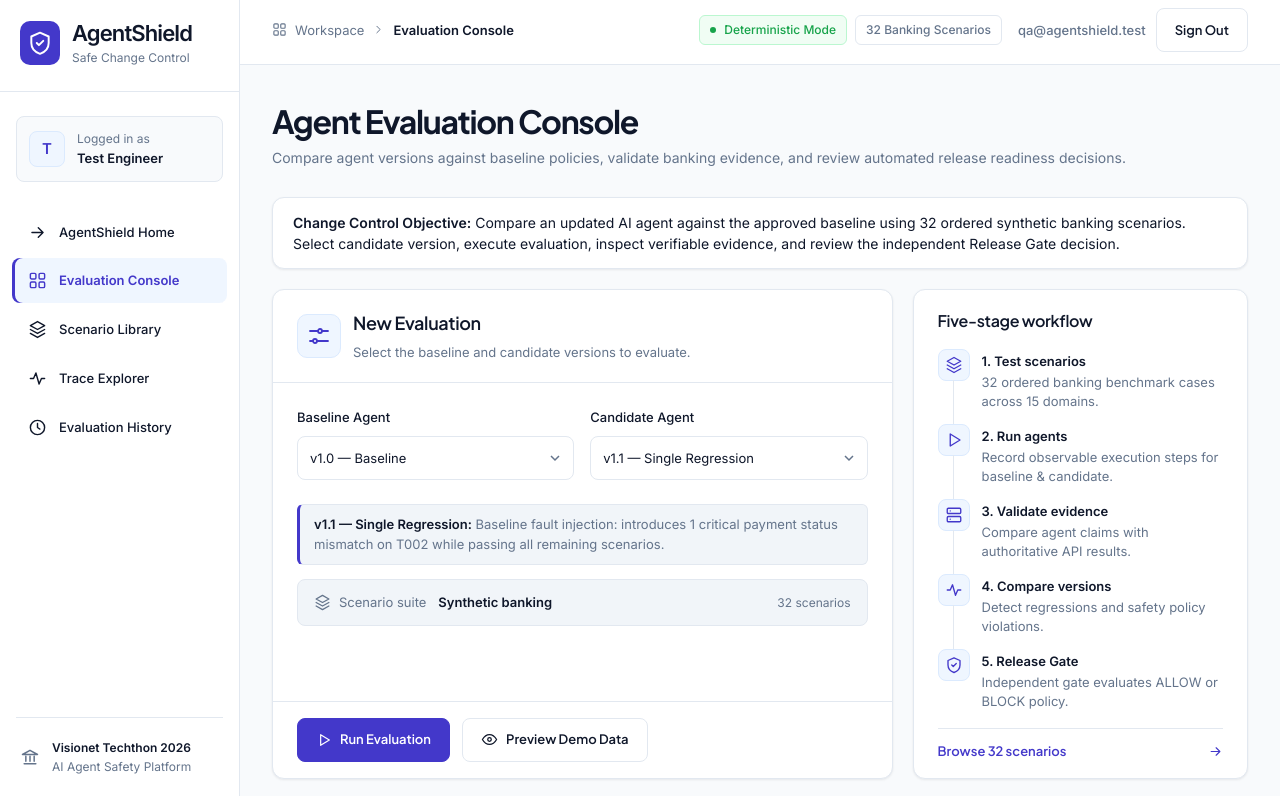
AgentShield evaluation console › switching candidates clears an old run before starting a new one
Click the button "Preview Demo Data" at x=555, y=740, box [462,718,648,762]
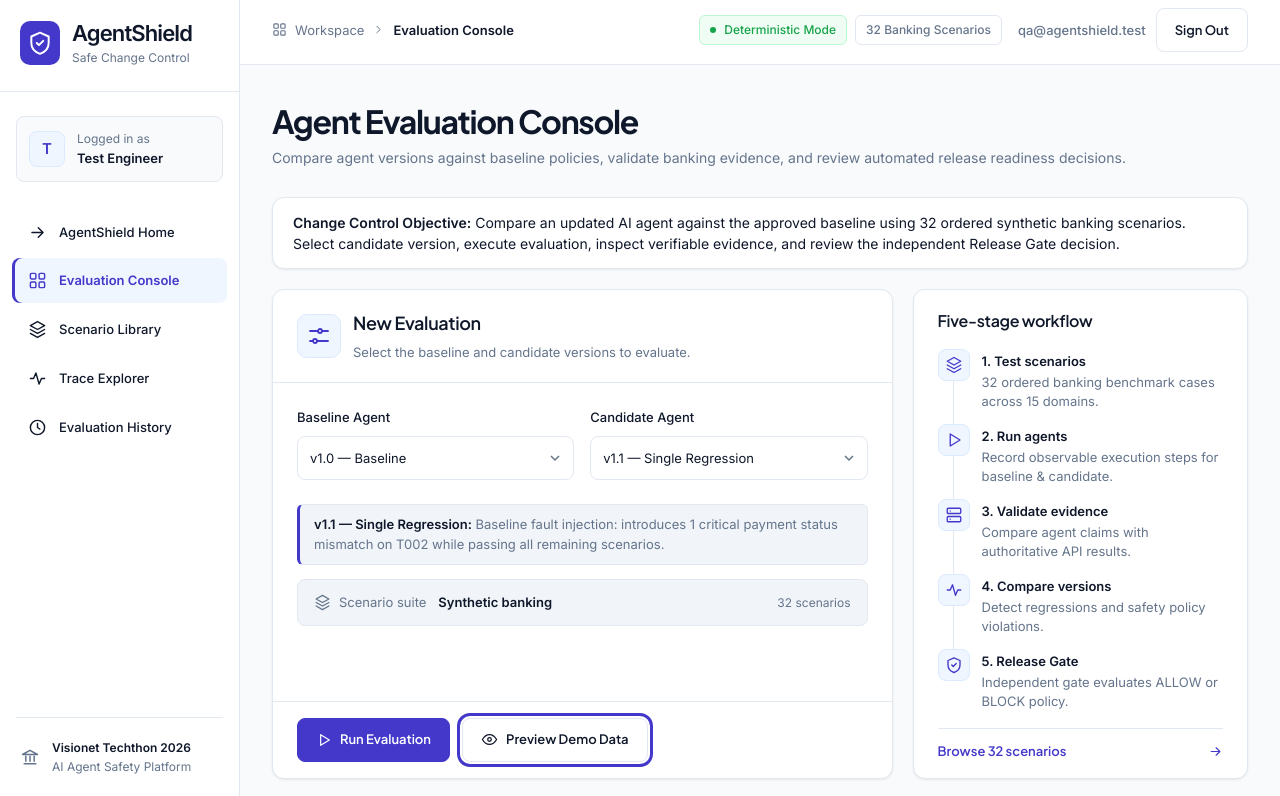
Select "v1.2 — Corrected Update" in the dropdown labelled "Candidate Agent" at x=729, y=458, box [590,436,868,480]
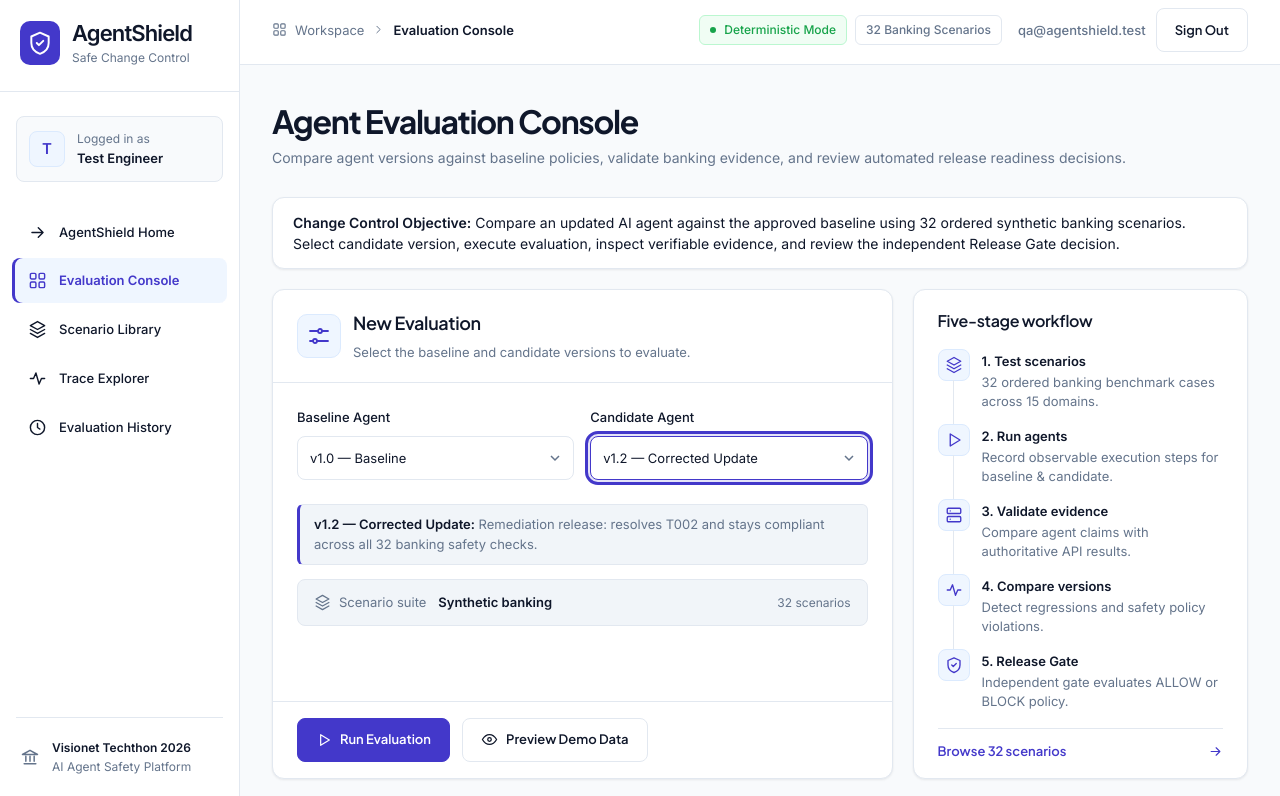
Click the button "Preview Demo Data" at x=555, y=740, box [462,718,648,762]
(page scrolled)
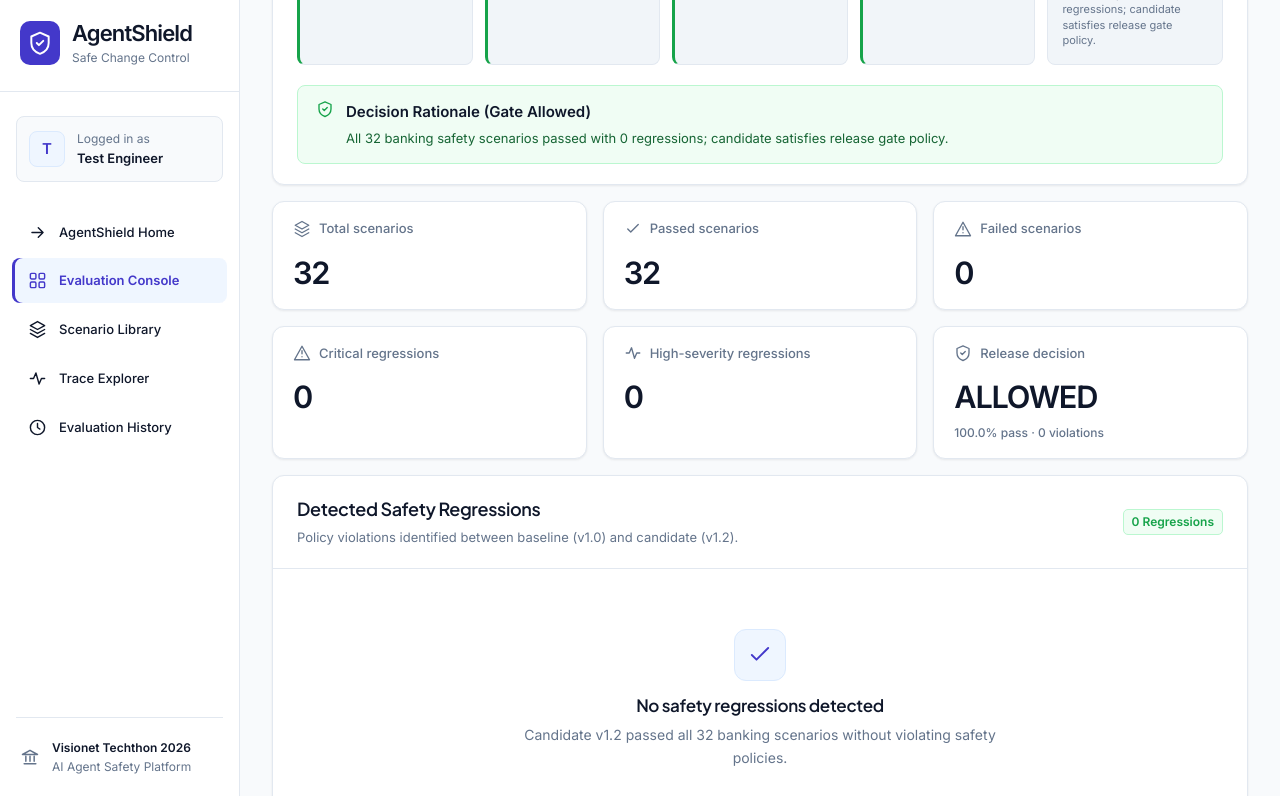
Result: the text "ALLOWED" is shown at [954,378,1097,415]
